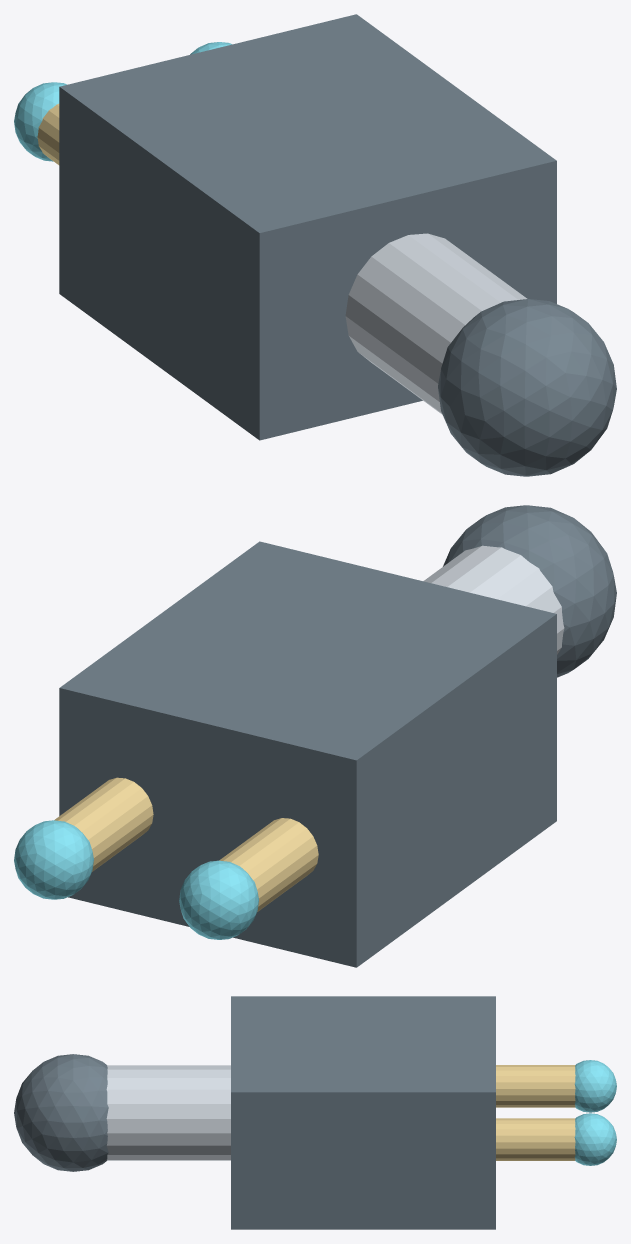
File: servicer_tool_repair_kit.glb
The picture shows the model from 3 angles, top to bottom: view 1: azimuth 30°, elevation 25°; view 2: azimuth 150°, elevation 25°; view 3: azimuth 270°, elevation 25°; orthographic projection. The views are drawn at different scales.
Parts seen in each view (by area): view 1: repair module housing, repair_kit swivel, repair_kit mounting spindle, probe indicator 0, composite repair probe 0; view 2: repair module housing, repair_kit swivel, repair_kit mounting spindle, probe indicator 1, probe indicator 0, composite repair probe 0, composite repair probe 1; view 3: repair module housing, repair_kit mounting spindle, repair_kit swivel, composite repair probe 0, composite repair probe 1, probe indicator 1, probe indicator 0.
Part boxes in pixels (x1,y1,x2,y2): repair module housing: (59, 14, 556, 440); repair_kit swivel: (438, 299, 616, 476); repair_kit mounting spindle: (345, 233, 527, 414); probe indicator 0: (14, 82, 66, 161); composite repair probe 0: (37, 103, 59, 165); repair module housing: (59, 541, 556, 967); repair_kit swivel: (443, 505, 616, 677); repair_kit mounting spindle: (423, 545, 564, 654); probe indicator 1: (14, 820, 93, 899); probe indicator 0: (179, 860, 258, 939); composite repair probe 0: (219, 818, 318, 911); composite repair probe 1: (54, 777, 153, 871); repair module housing: (231, 996, 495, 1229); repair_kit mounting spindle: (106, 1065, 230, 1160); repair_kit swivel: (14, 1054, 108, 1171); composite repair probe 0: (496, 1065, 575, 1107); composite repair probe 1: (496, 1118, 575, 1160); probe indicator 1: (574, 1113, 616, 1165); probe indicator 0: (574, 1060, 616, 1112).
Size of the model in its own units: 0.18 by 0.12 by 0.478.
